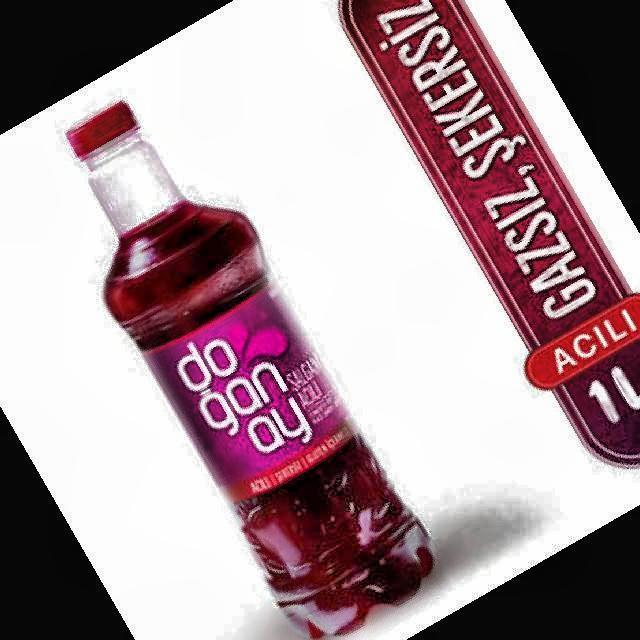plastic: (68, 102, 434, 638)
